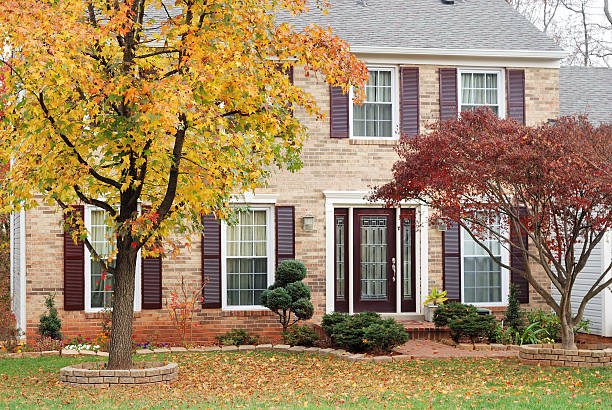tree: (1, 1, 383, 374), (386, 108, 610, 357)
